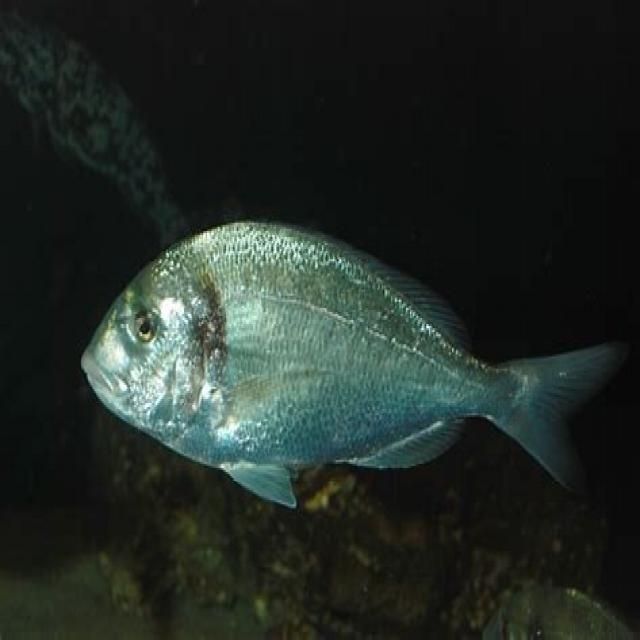Healthy Fish: (45, 213, 627, 512)
